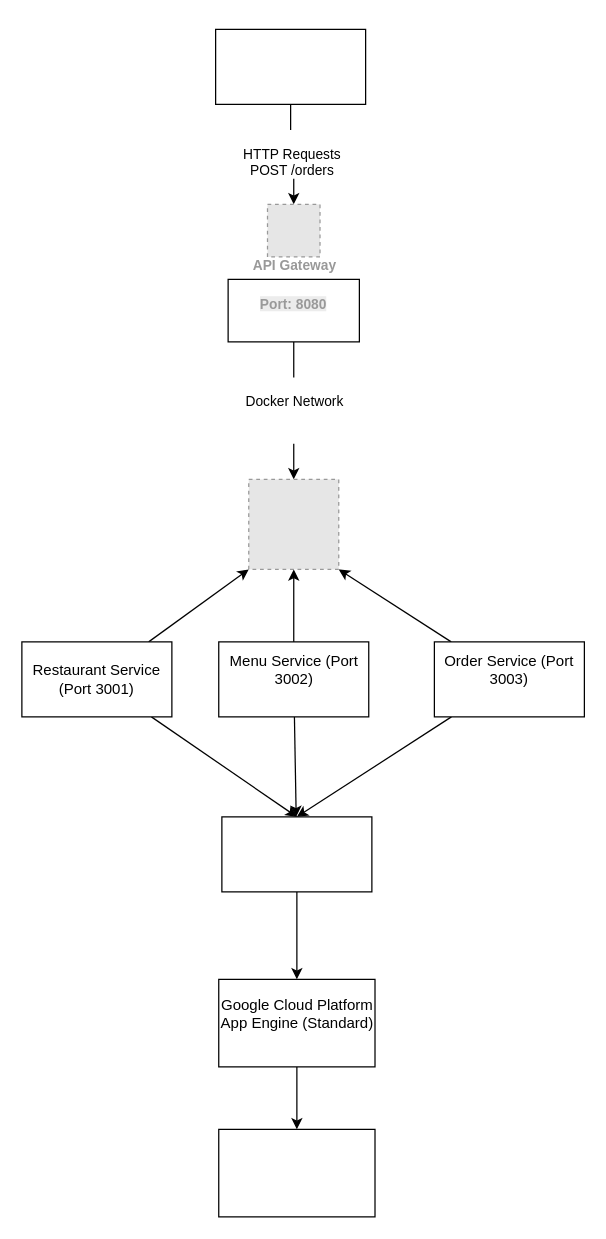
The diagram is 606 pixels wide and 1239 high, and some of its shapes have lost their labels. Grey dashed boxes stand in for pictures. Each missing label, with the box of its shape:
Client (Browser / Postman): (214, 28, 366, 104)
Cloud Deployment: (221, 816, 372, 892)
Order Service (Deployed): (218, 1128, 375, 1217)
